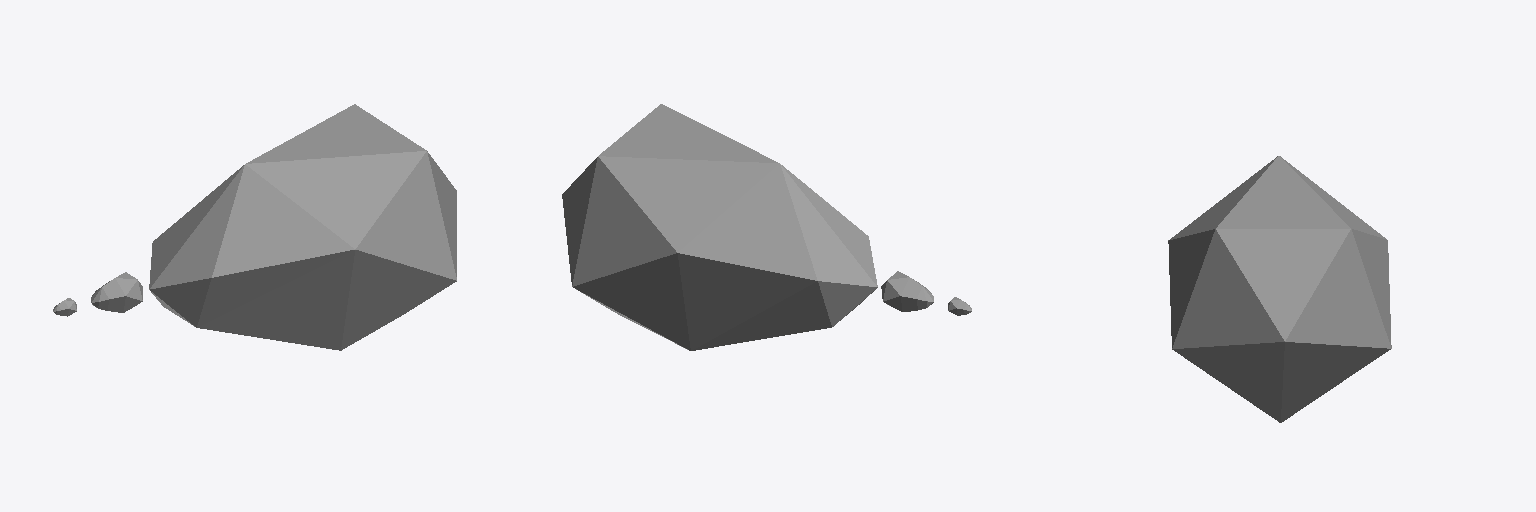
File: Cloud4.obj
3 renders of one model, left to right at view 1: azimuth 30°, elevation 25°; view 2: azimuth 150°, elevation 25°; view 3: azimuth 270°, elevation 25°, orthographic.
Parts seen in each view (by area): view 1: Cube.001; view 2: Cube.001; view 3: Cube.001.
Boxes of the visible parts, x1=… form: Cube.001: x1=53, y1=104, x2=456, y2=350; Cube.001: x1=562, y1=104, x2=971, y2=350; Cube.001: x1=1168, y1=156, x2=1391, y2=422.
Size of the model in its own units: 9.1 by 4.06 by 4.32.